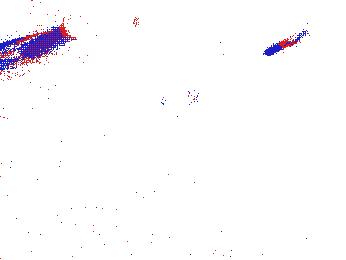redtail glassfish: (1, 30, 68, 61), (155, 85, 199, 117)
